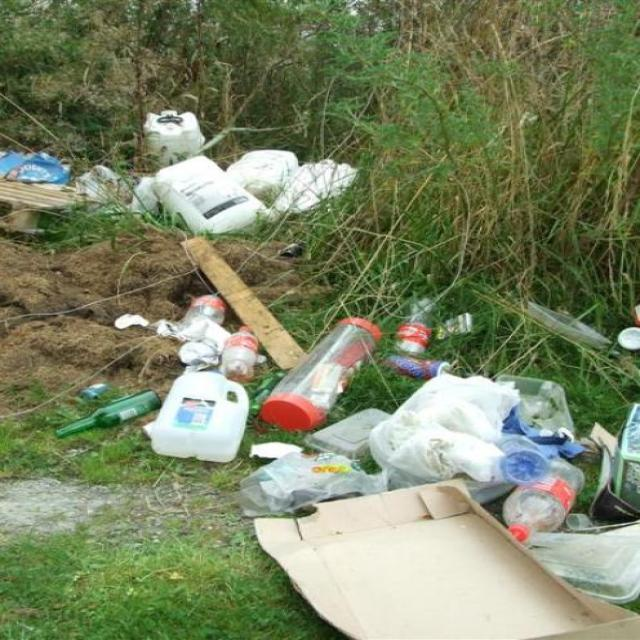dumping: (0, 95, 640, 633)
